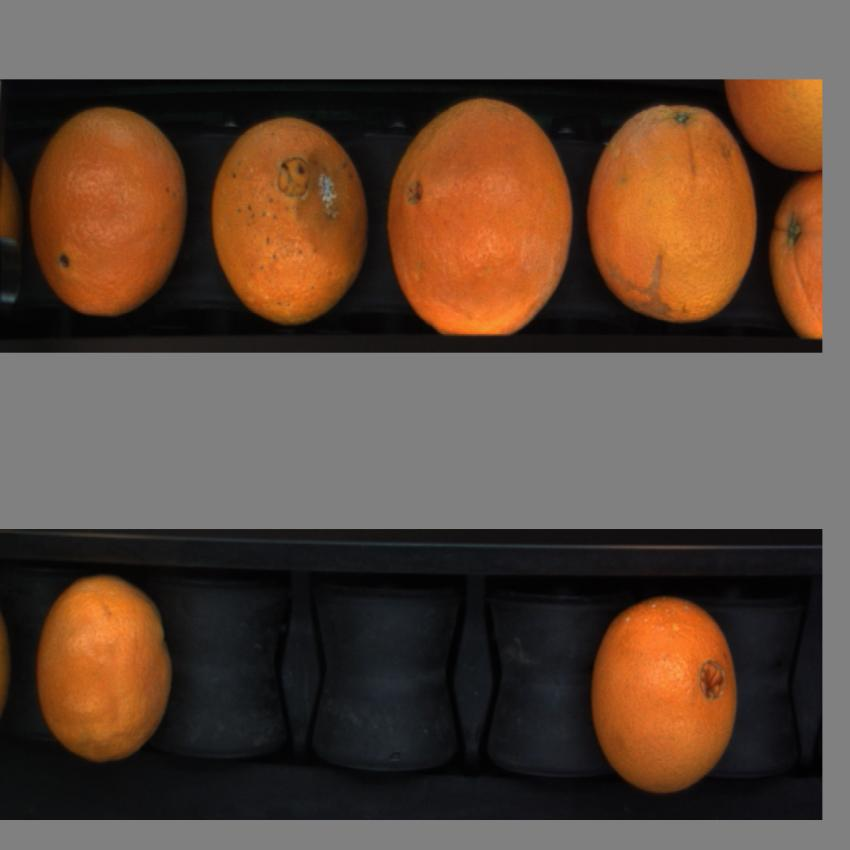Buen estado: (384, 92, 576, 345), (582, 93, 765, 334), (22, 97, 192, 329), (588, 582, 742, 810), (26, 570, 196, 772), (722, 76, 821, 186), (767, 166, 824, 350)
Mal estado: (207, 113, 373, 332)
